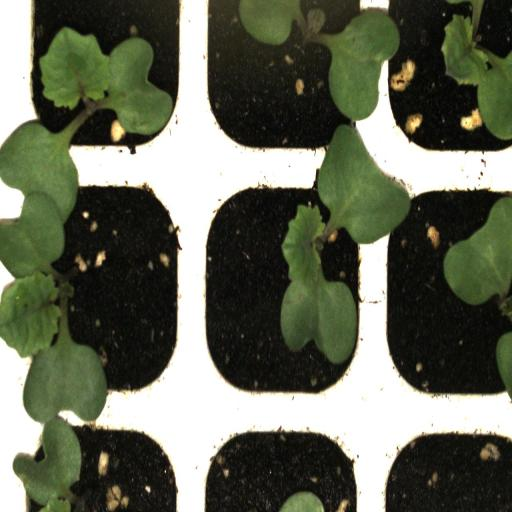Folha: (280, 11, 411, 365), (443, 196, 512, 318), (239, 0, 303, 49)
Germinacao: (9, 172, 195, 412), (195, 160, 370, 412), (196, 0, 375, 174), (12, 1, 196, 166)
